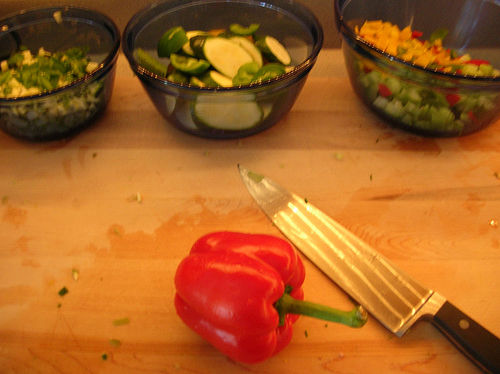capsicum: (176, 222, 370, 373)
